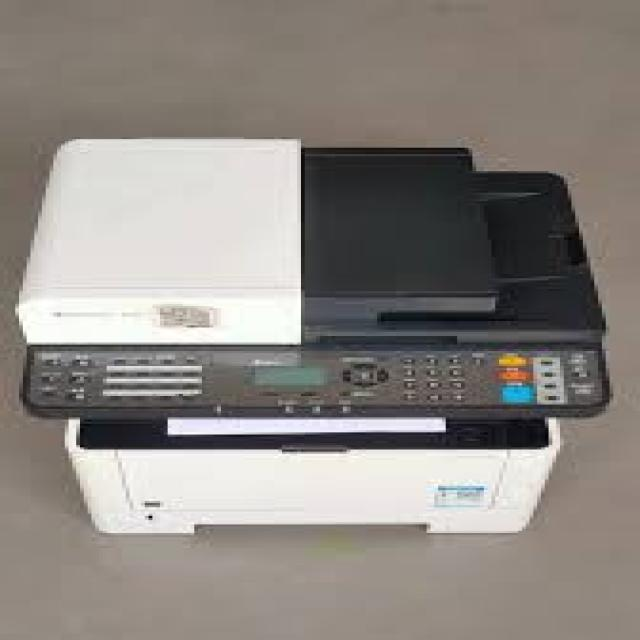printer: (12, 135, 610, 535)
